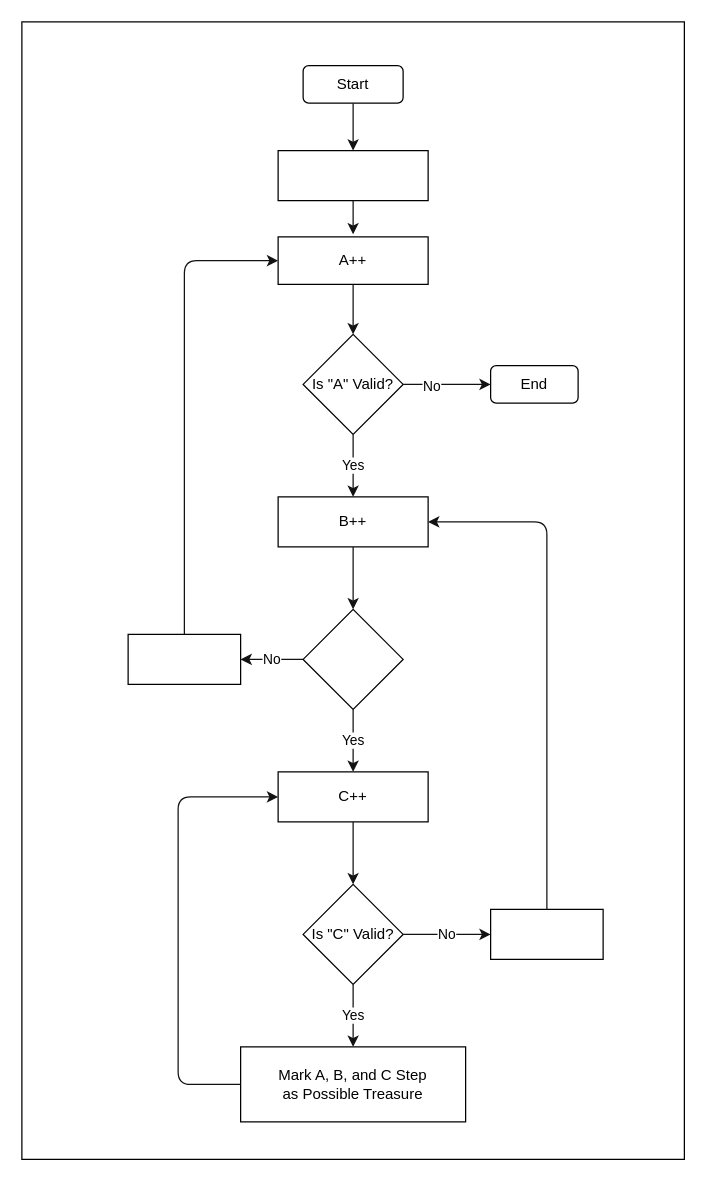
This 706x1181 diagram has some shape labels left out. The centre of each missing label's shape, as x and y in pixels:
Get Initial Position: (x=352, y=175)
Is "B" Valid?: (x=352, y=658)
Reset B to 0: (x=184, y=658)
Reset C to 0: (x=546, y=933)
